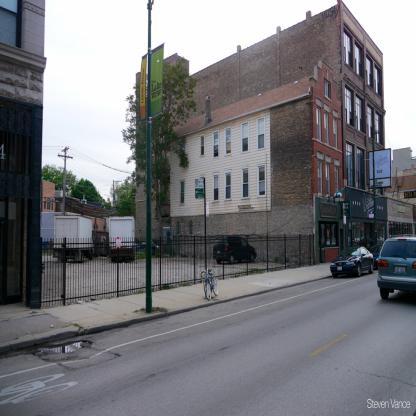Car: (380, 235, 416, 304), (330, 242, 376, 276), (214, 236, 257, 262)
